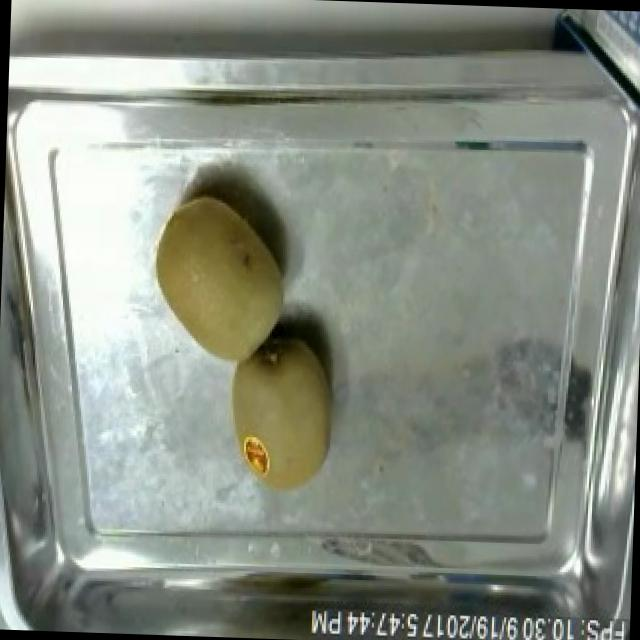Fruit: (138, 185, 298, 371), (214, 319, 346, 507)
